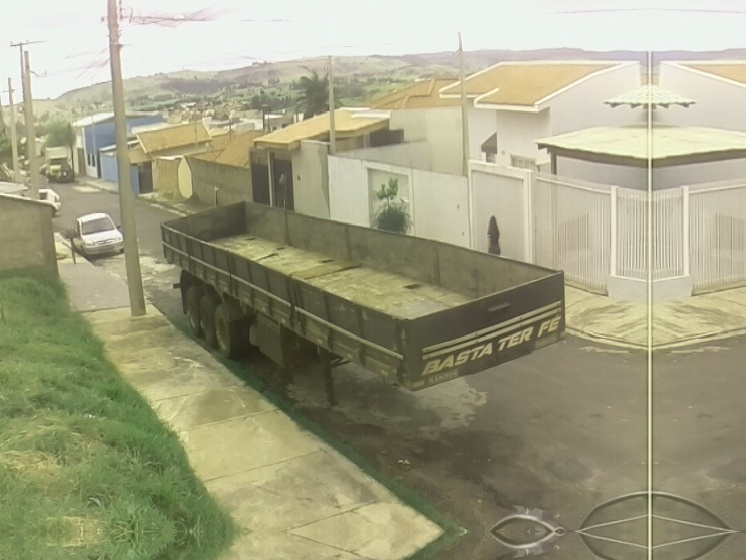person: (485, 211, 503, 257)
